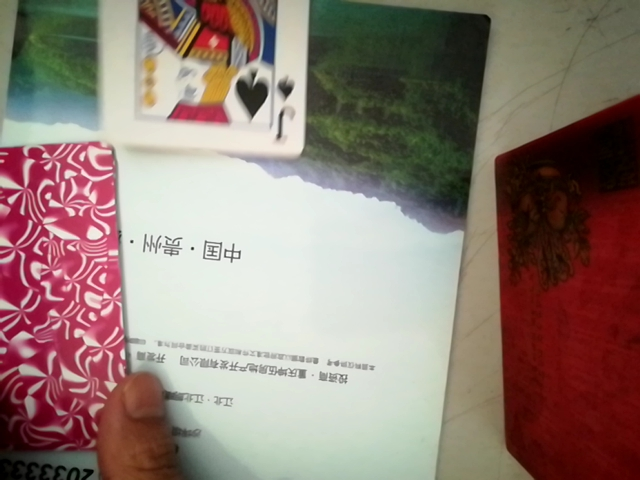ht j: (84, 0, 323, 162)
